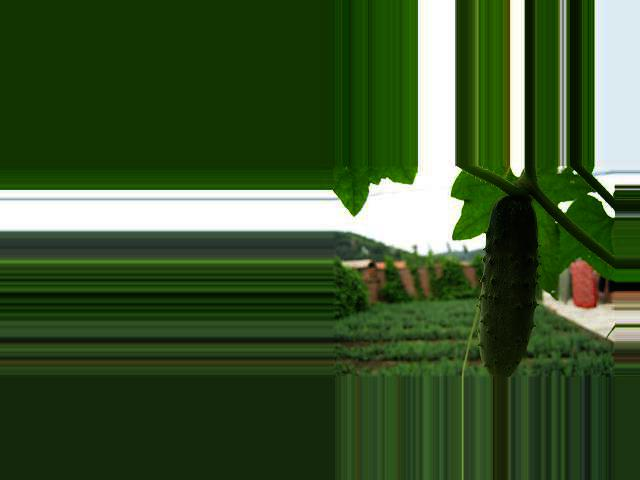cucumber: (479, 196, 537, 378)
